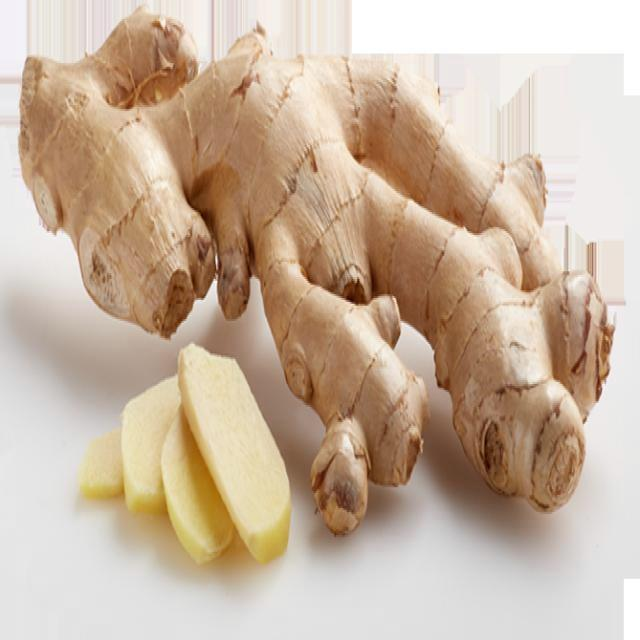ginger: (18, 9, 612, 532)
